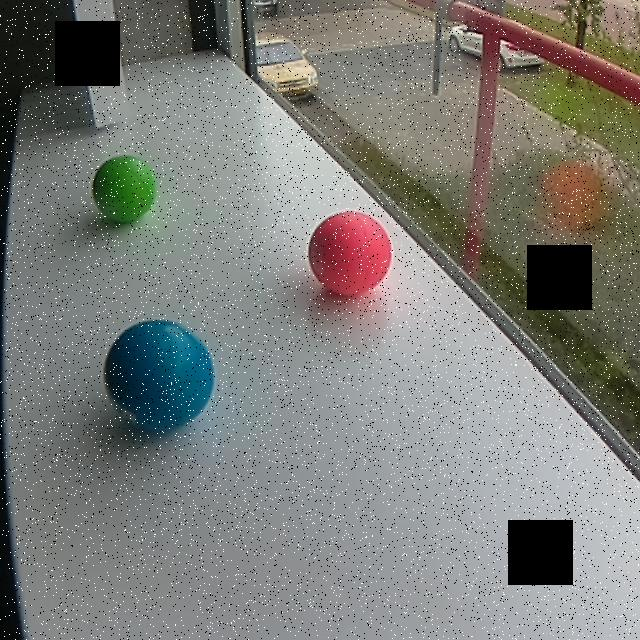ball: (102, 315, 216, 437), (305, 209, 395, 303), (91, 153, 158, 229)
